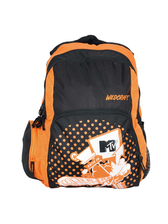bag: (21, 33, 154, 196)
